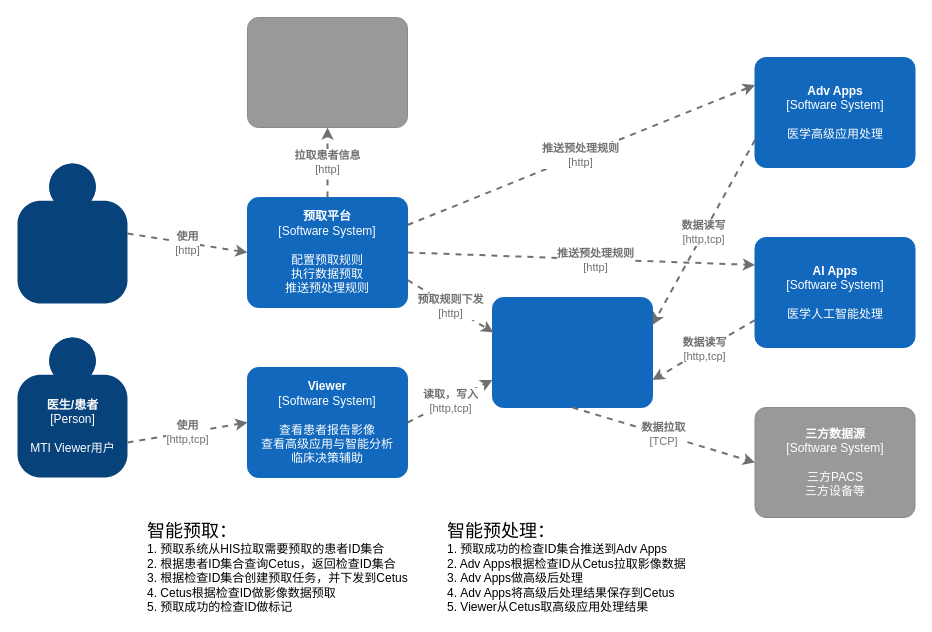
The diagram is 932 pixels wide and 632 high, and some of its shapes have lost their labels. The box of each missing label's shape, as (x1, y1, x2, y2) in pixels:
Cetus [Software System] 大数据网关存储: (492, 296, 652, 408)
HIS [Software System] HIS系统，提供住院患者，预约患者，门诊患者等信息: (246, 16, 408, 128)
管理员 [Person] 后台管理配置: (17, 163, 127, 303)
